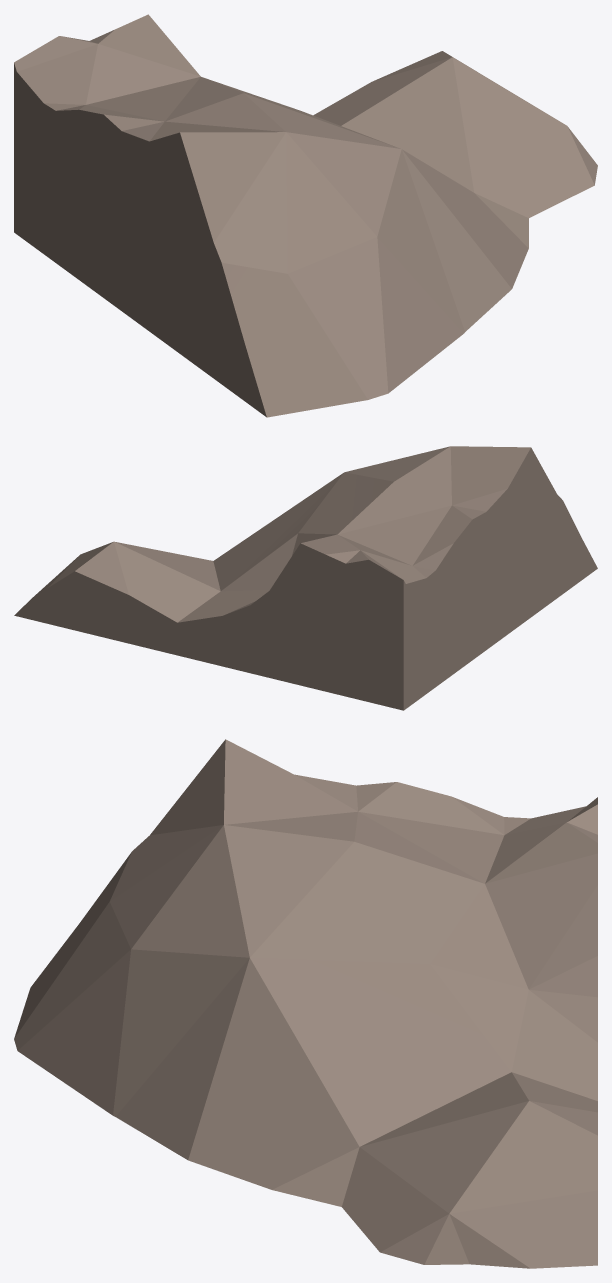
File: DarkRockDecorationCornerofRubble1.fbx
The picture shows the model from 3 angles, top to bottom: view 1: azimuth 30°, elevation 25°; view 2: azimuth 150°, elevation 25°; view 3: azimuth 270°, elevation 25°; orthographic projection. The views are drawn at different scales.
Visible parts, largest first — view 1: DarkRockDecorationCornerofRubble1; view 2: DarkRockDecorationCornerofRubble1; view 3: DarkRockDecorationCornerofRubble1.
Part boxes in pixels (box(x1,y1,x2,y2)): DarkRockDecorationCornerofRubble1: box(14, 14, 597, 417); DarkRockDecorationCornerofRubble1: box(14, 446, 597, 710); DarkRockDecorationCornerofRubble1: box(14, 739, 597, 1268).
Size of the model in its own units: 628 by 259 by 552.
